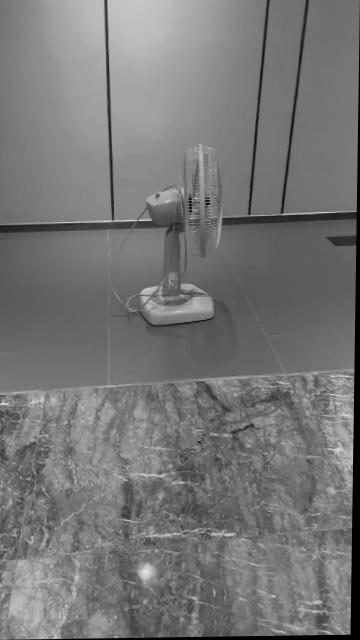Fan: (140, 145, 223, 326)
